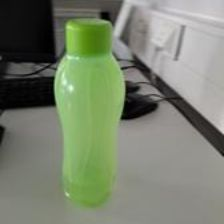bottle: (53, 16, 126, 207)
